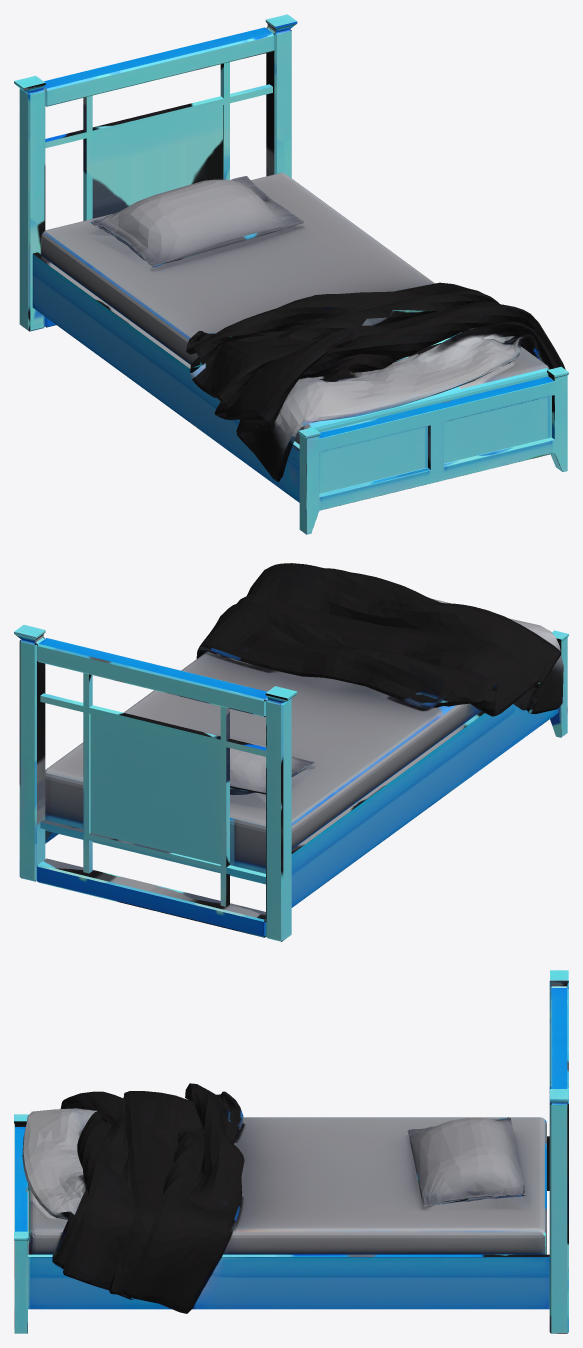
Rendered from edited_mesh.glb.
3 renders of one model, top to bottom at view 1: azimuth 30°, elevation 25°; view 2: azimuth 150°, elevation 25°; view 3: azimuth 270°, elevation 25°, orthographic. The views are drawn at different scales.
Visible parts, largest first — view 1: solid_001_wire; view 2: solid_001_wire; view 3: solid_001_wire.
Part boxes in pixels (x1,y1,x2,y2): solid_001_wire: [14, 14, 568, 534]; solid_001_wire: [14, 563, 568, 941]; solid_001_wire: [14, 970, 568, 1333].
Bounding box in the file's own units: 1.29 × 0.9447 × 2.
1 material, 1 textured.
